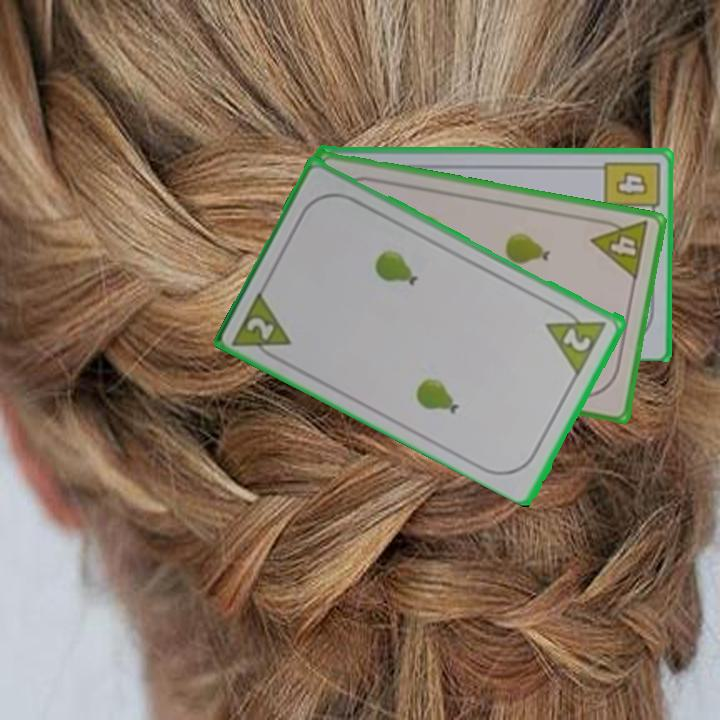2p: (229, 286, 295, 366), (543, 301, 611, 376)
4b: (601, 158, 662, 220)
4p: (588, 214, 652, 283)
